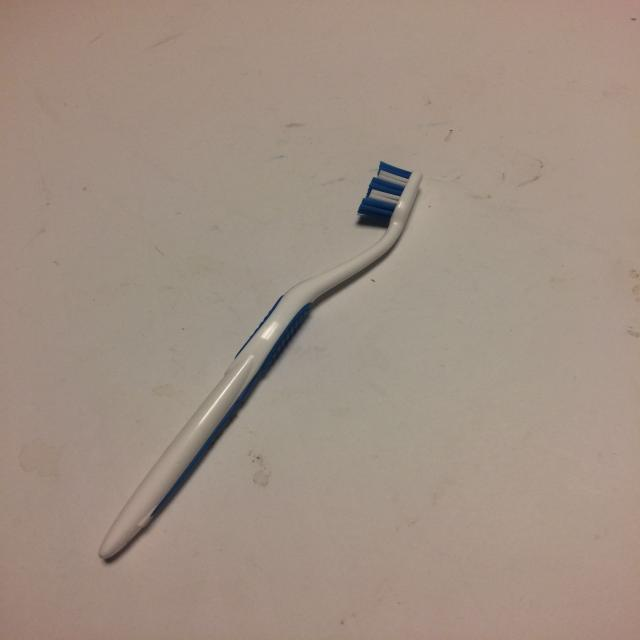Trash: (97, 160, 422, 560)
